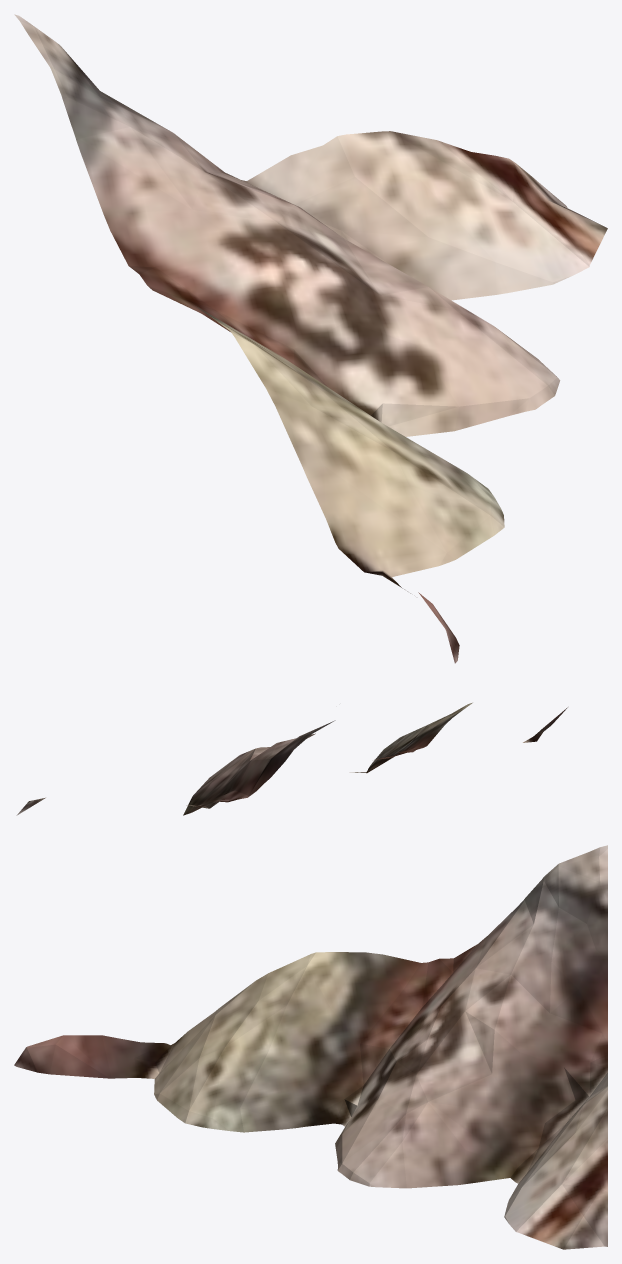
3 views of the same model, one above another, from view 1: azimuth 30°, elevation 25°; view 2: azimuth 150°, elevation 25°; view 3: azimuth 270°, elevation 25° (orthographic). The views are drawn at different scales.
Bounding box in the file's own units: 0.4129 × 0.2299 × 0.5623.
Materials: 1 (1 with a texture image).
